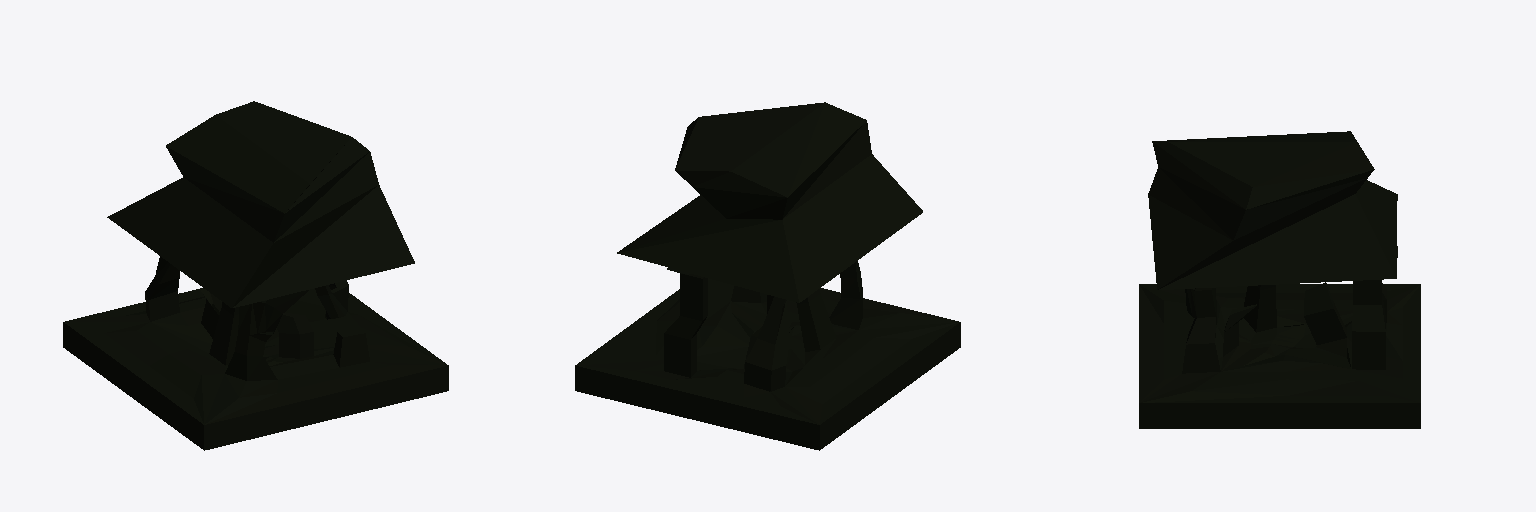
Rendered from Forest1.obj.
The picture shows the model from 3 angles: view 1: azimuth 30°, elevation 25°; view 2: azimuth 150°, elevation 25°; view 3: azimuth 270°, elevation 25°; orthographic projection.
Visible parts, largest first — view 1: Cube; view 2: Cube; view 3: Cube.
Part boxes in pixels (bbox=[...]): Cube: bbox=[63, 101, 448, 450]; Cube: bbox=[575, 102, 960, 450]; Cube: bbox=[1139, 131, 1420, 428].
Bounding box in the file's own units: 2 × 1.77 × 2.